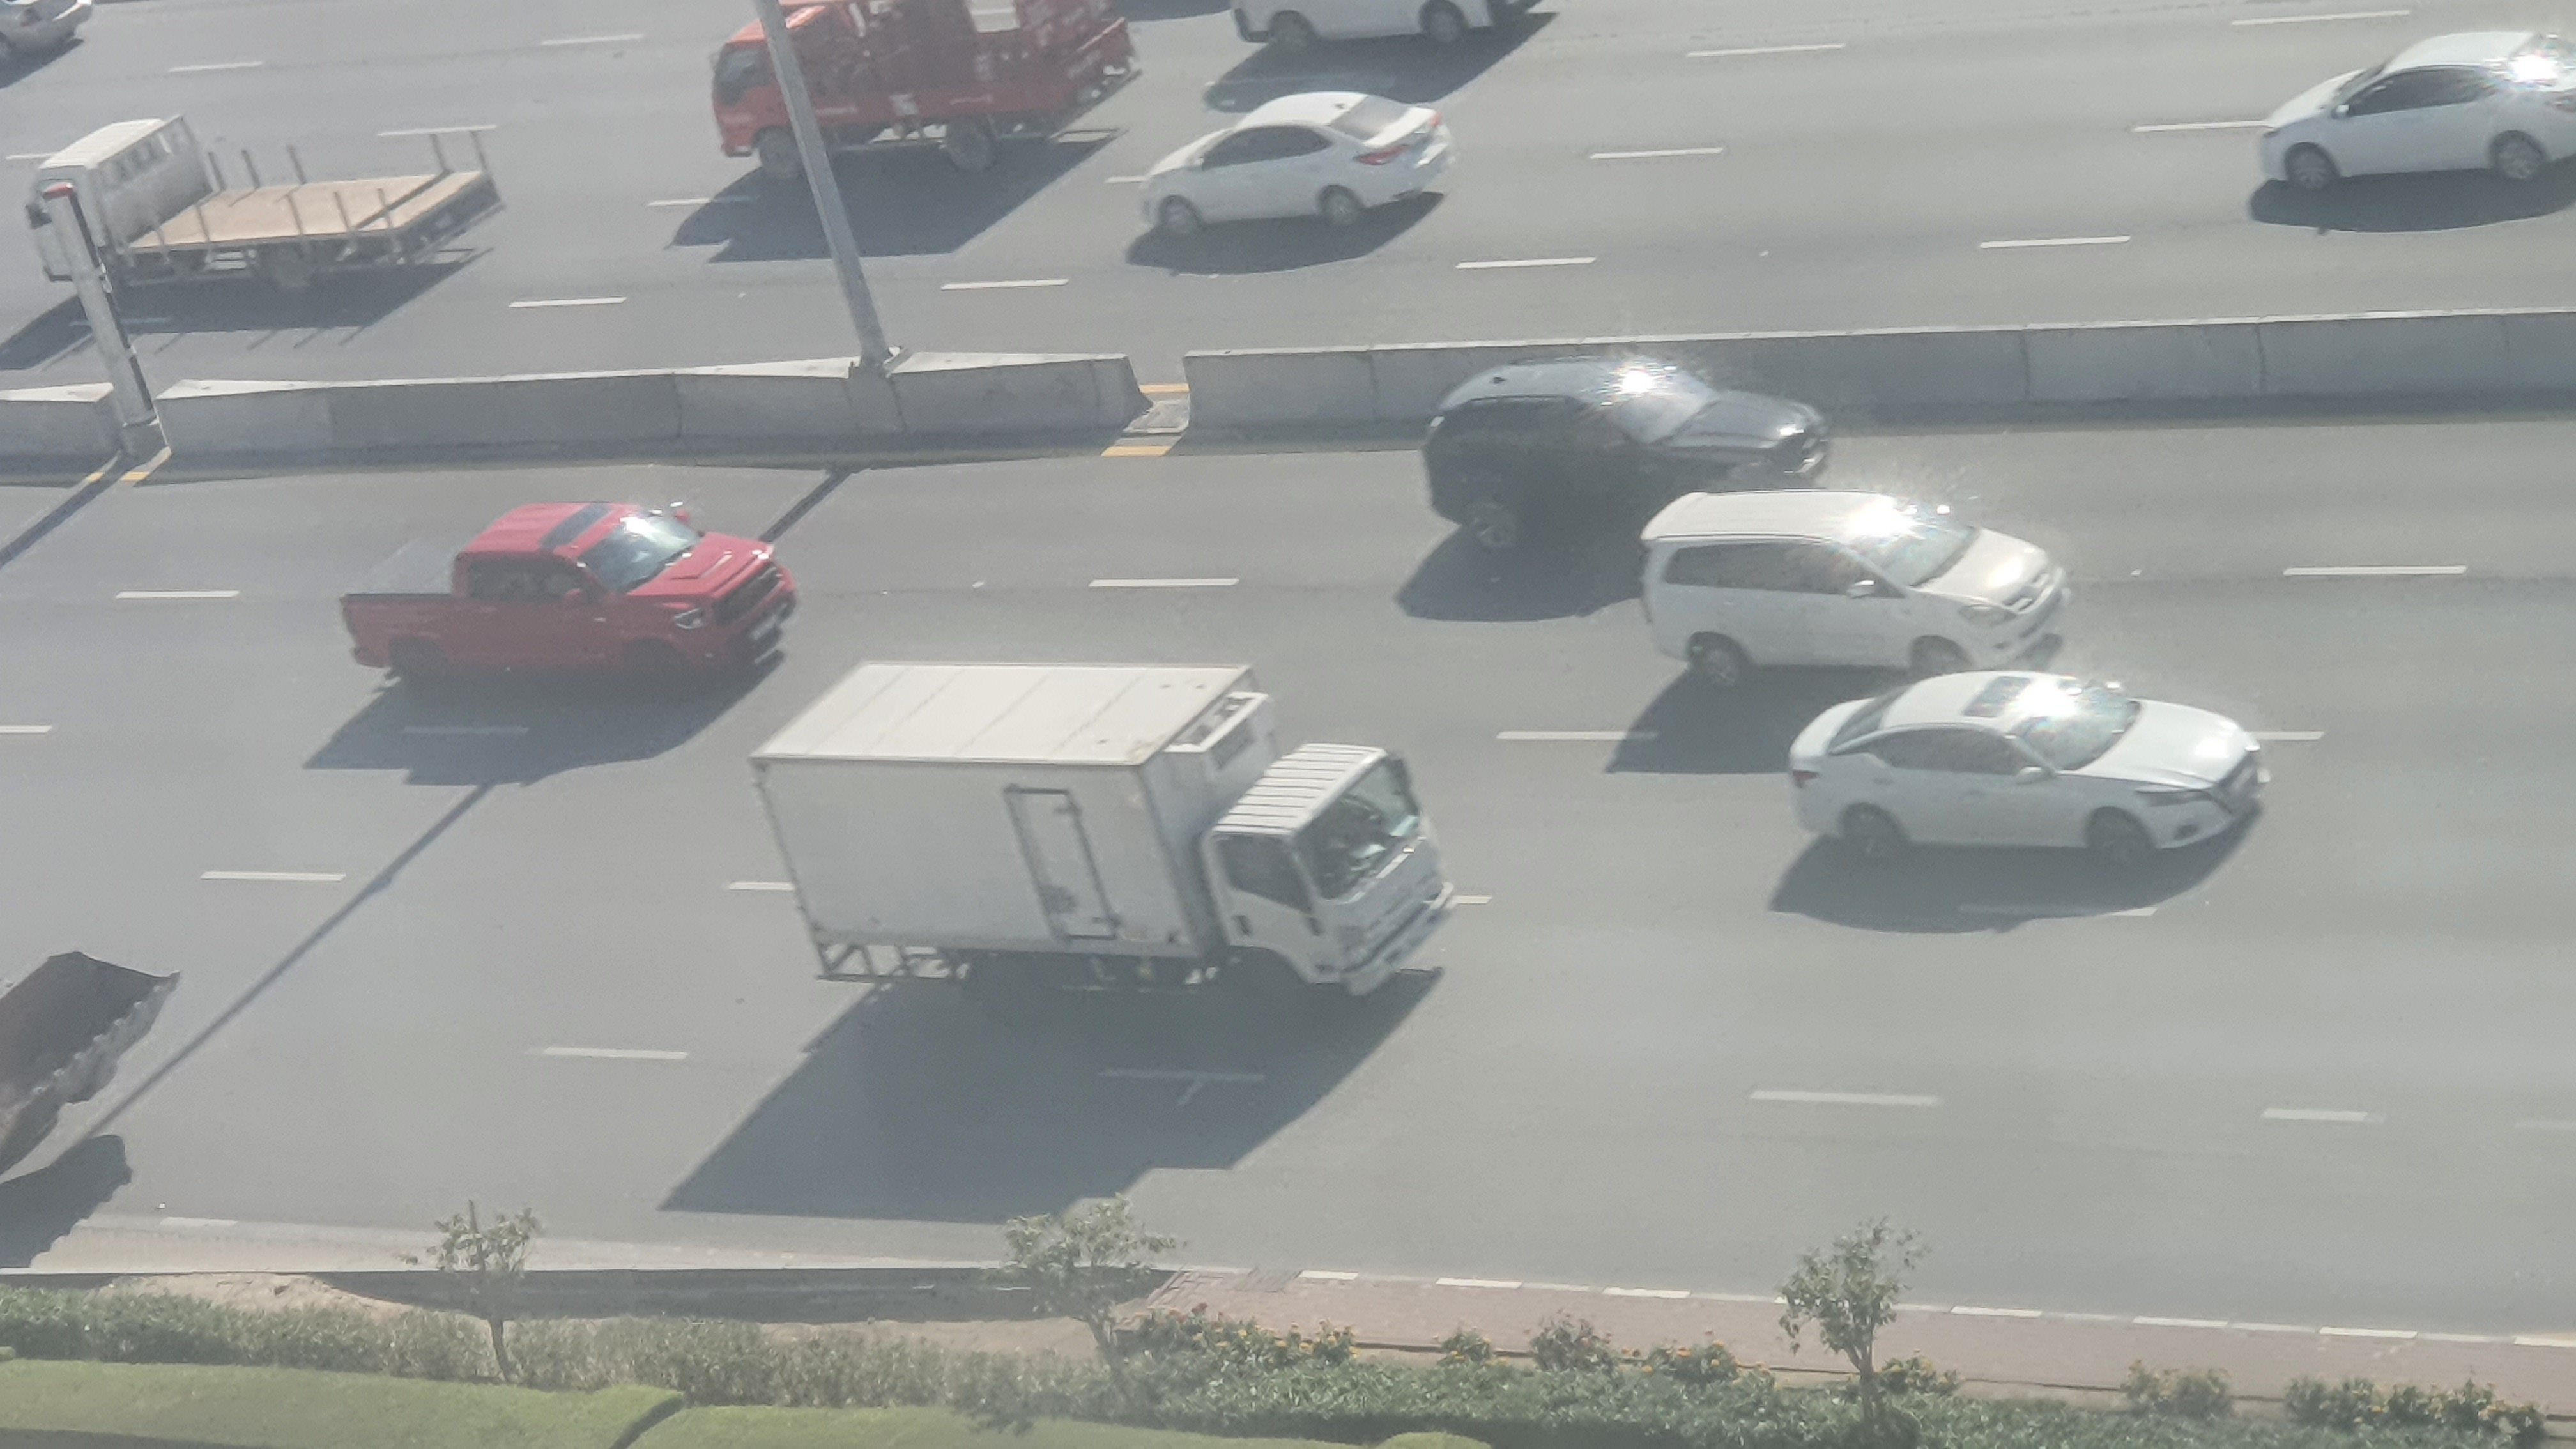NotSunroof: (1640, 488, 2072, 676), (1410, 349, 1835, 494)
Sunroof: (1792, 672, 2270, 869), (334, 504, 798, 701)
